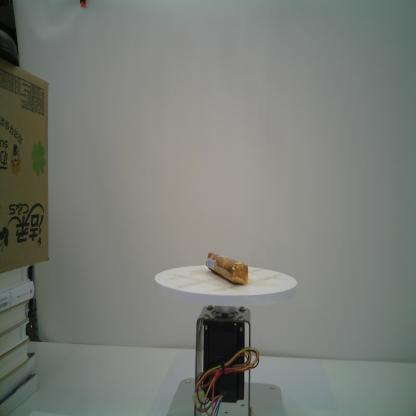Candy: (204, 250, 249, 288)
